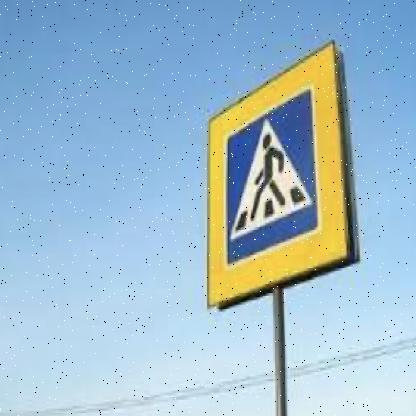Pedestrian Crossing: (230, 96, 317, 260)
